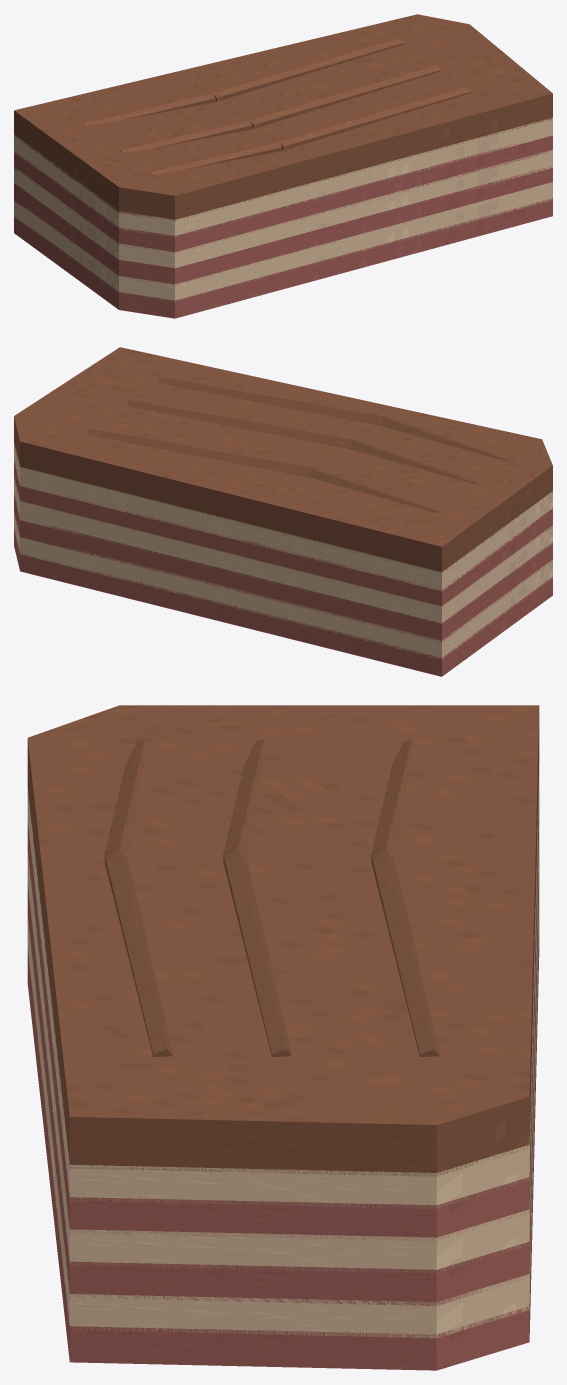
File: bacon_uncut.glb
3 views of the same model, one above another, from view 1: azimuth 30°, elevation 25°; view 2: azimuth 150°, elevation 25°; view 3: azimuth 270°, elevation 25° (orthographic). The views are drawn at different scales.
Parts seen in each view (by area): view 1: block_outer rind, block_cut meat (×3), block_fat streak (×3), block_smoked rind grain 1 (×3), block_smoked rind grain 0 (×3); view 2: block_outer rind, block_fat streak (×3), block_cut meat (×3), block_smoked rind grain 1 (×3), block_smoked rind grain 0 (×3); view 3: block_outer rind, block_cut meat (×3), block_fat streak (×3), block_smoked rind grain 1 (×3), block_smoked rind grain 0 (×3).
Boxes of the visible parts, x1,y1,x2,y2 form: block_outer rind: (14,14,552,220); block_cut meat (×3): (14,135,552,318); block_fat streak (×3): (14,118,552,301); block_smoked rind grain 1 (×3): (213,38,470,150); block_smoked rind grain 0 (×3): (83,93,282,174); block_outer rind: (14,347,552,573); block_fat streak (×3): (14,442,552,659); block_cut meat (×3): (14,461,552,676); block_smoked rind grain 1 (×3): (88,377,386,477); block_smoked rind grain 0 (×3): (310,417,508,512); block_outer rind: (27,705,539,1176); block_cut meat (×3): (27,793,539,1370); block_fat streak (×3): (27,764,539,1338); block_smoked rind grain 1 (×3): (104,849,439,1056); block_smoked rind grain 0 (×3): (104,739,413,860).
Size of the model in its own units: 0.1184 by 0.0339 by 0.061.
Materials: 1 (1 with a texture image).
